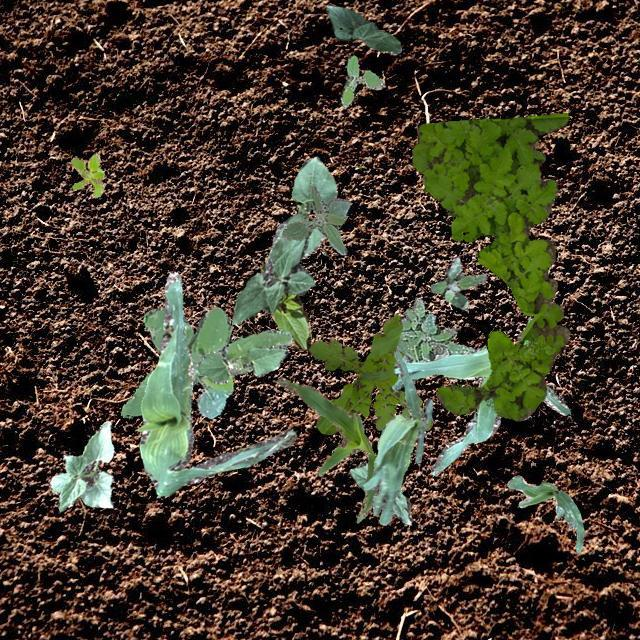crop: (137, 270, 296, 494), (388, 330, 570, 474), (273, 376, 378, 522), (362, 350, 432, 524), (230, 234, 314, 324), (270, 156, 336, 256), (506, 474, 584, 552), (48, 420, 112, 510), (258, 262, 310, 350), (348, 462, 412, 524), (324, 2, 400, 54), (194, 344, 286, 382)
weed: (411, 112, 568, 420), (120, 306, 292, 418), (308, 314, 432, 434), (394, 296, 474, 362), (282, 186, 350, 253), (430, 256, 486, 308), (340, 55, 384, 106), (70, 152, 104, 196)
